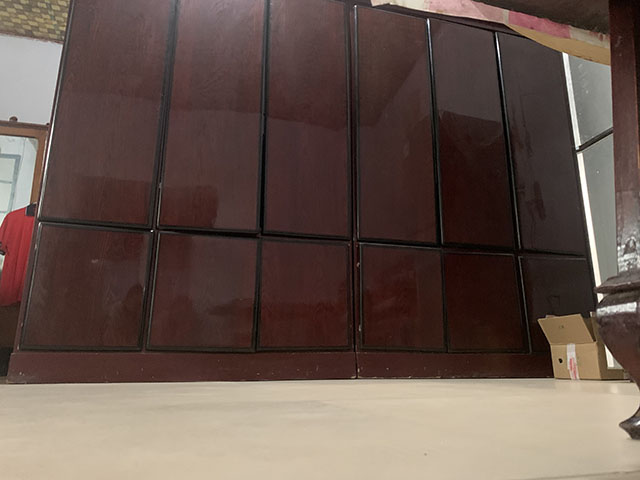cabinet: (4, 1, 599, 385)
